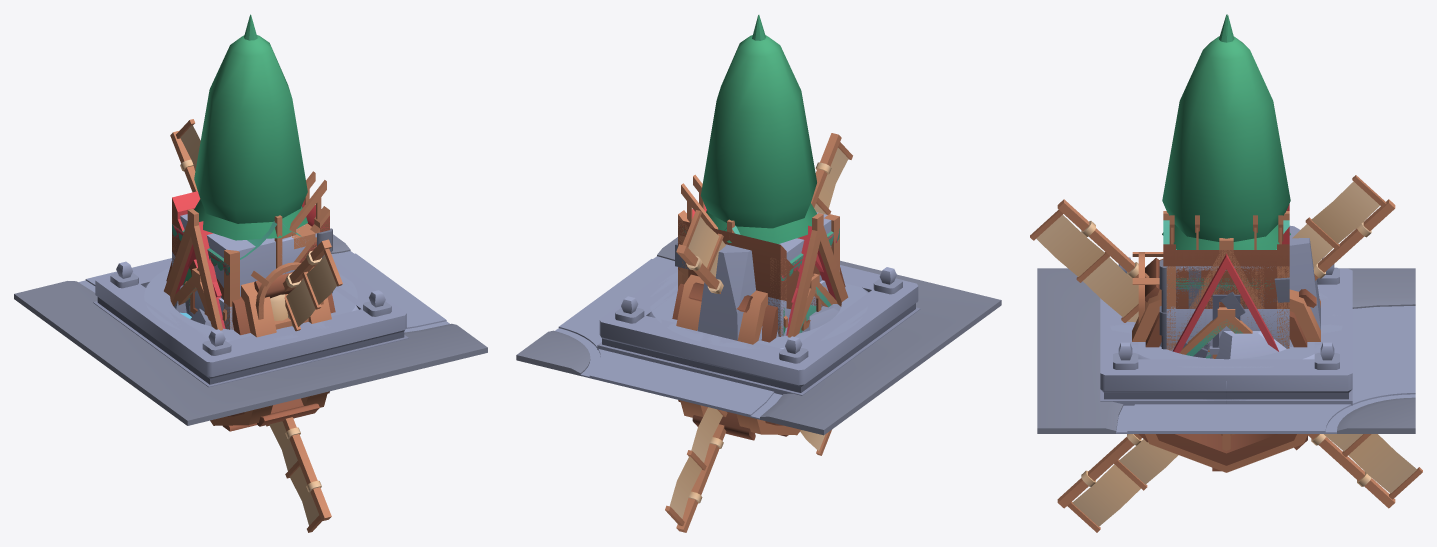
The model's file is town.glb.
3 views of the same model, side by side, from view 1: azimuth 30°, elevation 25°; view 2: azimuth 150°, elevation 25°; view 3: azimuth 270°, elevation 25° (orthographic). The views are drawn at different scales.
Parts seen in each view (by area): view 1: road-bend, tree-high-round, fountain-square-detail, windmill, watermill-wide, roof-high-gable-detail, fountain-round-detail, wall-block, tree-high-crooked, wall-corner-diagonal, watermill, cart-high (+5 smaller); view 2: road-bend, tree-high-round, fountain-square-detail, windmill, watermill-wide, rock-wide, roof-high-cornerinner, roof-high-gable-detail, fountain-round-detail, tree-high-crooked, wall-block, watermill (+2 smaller); view 3: road-bend, windmill, tree-high-round, fountain-square-detail, watermill-wide, roof-high-cornerinner, roof-high-right, roof-corner-inner, fountain-round-detail, rock-wide, roof-high-gable-end, roof-high-window (+13 smaller).
Boxes of the visible parts, left/top/right/bottom form: road-bend: left=14, top=234, right=487, bottom=425; tree-high-round: left=194, top=35, right=307, bottom=223; fountain-square-detail: left=93, top=259, right=408, bottom=387; windmill: left=170, top=119, right=342, bottom=532; watermill-wide: left=166, top=261, right=335, bottom=431; roof-high-gable-detail: left=164, top=209, right=225, bottom=330; fountain-round-detail: left=144, top=267, right=358, bottom=361; wall-block: left=172, top=213, right=275, bottom=327; tree-high-crooked: left=194, top=14, right=307, bottom=240; wall-corner-diagonal: left=224, top=242, right=275, bottom=327; watermill: left=251, top=272, right=321, bottom=424; cart-high: left=251, top=260, right=323, bottom=329; road-bend: left=516, top=237, right=1001, bottom=435; tree-high-round: left=700, top=35, right=816, bottom=228; fountain-square-detail: left=597, top=264, right=920, bottom=395; windmill: left=665, top=133, right=852, bottom=532; watermill-wide: left=672, top=265, right=845, bottom=440; rock-wide: left=697, top=244, right=755, bottom=340; roof-high-cornerinner: left=678, top=210, right=822, bottom=336; roof-high-gable-detail: left=786, top=213, right=848, bottom=337; fountain-round-detail: left=649, top=272, right=868, bottom=374; tree-high-crooked: left=706, top=15, right=816, bottom=243; wall-block: left=678, top=216, right=839, bottom=323; watermill: left=686, top=278, right=757, bottom=437; road-bend: left=1037, top=268, right=1415, bottom=433; windmill: left=1030, top=175, right=1422, bottom=532; tree-high-round: left=1162, top=36, right=1290, bottom=241; fountain-square-detail: left=1100, top=257, right=1352, bottom=405; watermill-wide: left=1132, top=257, right=1320, bottom=472; roof-high-cornerinner: left=1163, top=204, right=1289, bottom=308; roof-high-right: left=1163, top=244, right=1289, bottom=308; roof-corner-inner: left=1166, top=309, right=1289, bottom=353; fountain-round-detail: left=1110, top=292, right=1342, bottom=403; rock-wide: left=1160, top=225, right=1320, bottom=346; roof-high-gable-end: left=1173, top=253, right=1278, bottom=352; roof-high-window: left=1167, top=250, right=1289, bottom=308.
Bounding box in the file's own units: 3 × 4.53 × 3.11.
2 materials, 1 textured.
